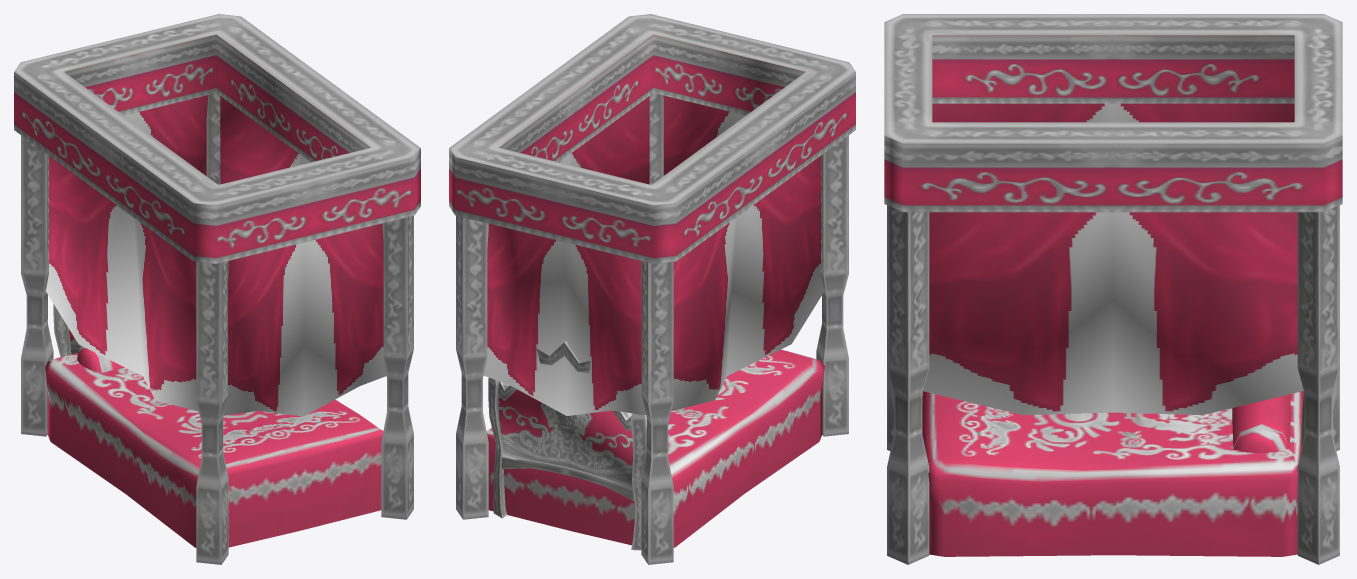
File: QueenCanopyBed_HD.fbx
3 views of the same model, side by side, from view 1: azimuth 30°, elevation 25°; view 2: azimuth 150°, elevation 25°; view 3: azimuth 270°, elevation 25° (orthographic). The views are drawn at different scales.
Visible parts, largest first — view 1: QueenCanopyBed; view 2: QueenCanopyBed; view 3: QueenCanopyBed.
Boxes of the visible parts, x1,y1,x2,y2 form: QueenCanopyBed: [14, 14, 420, 564]; QueenCanopyBed: [449, 14, 855, 564]; QueenCanopyBed: [884, 14, 1342, 564].
Bounding box in the file's own units: 1.93 × 2.94 × 2.88.
